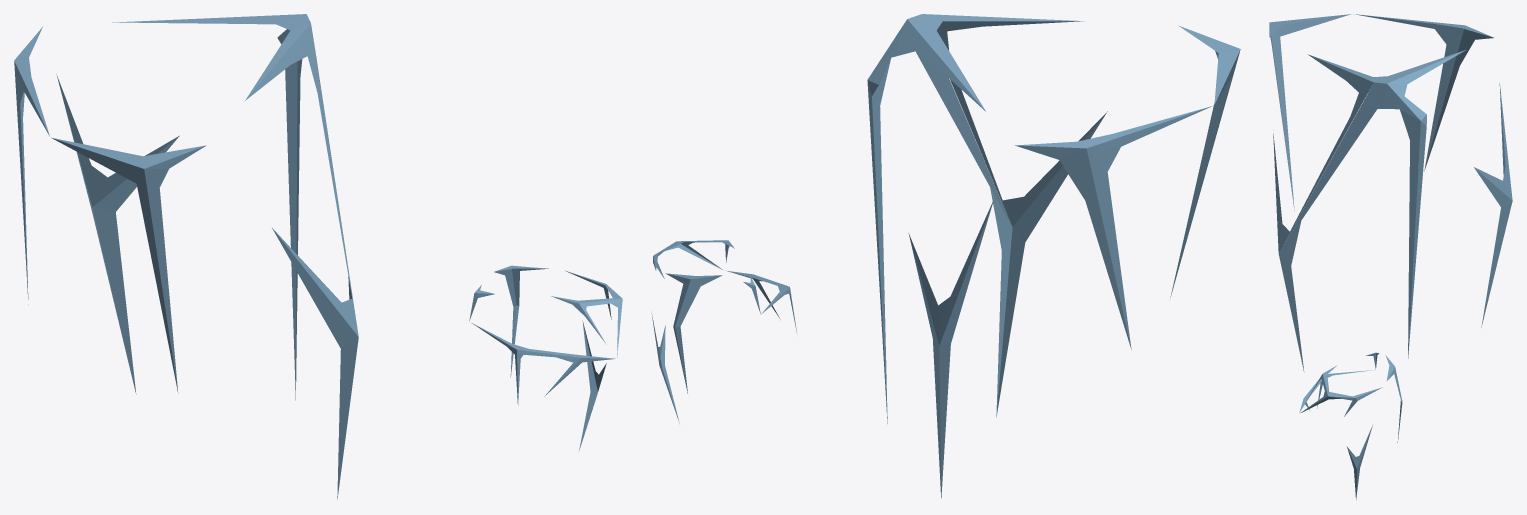
Rendered from Stone_Blue_A_05_Light.FBX.
The picture shows the model from 3 angles, left to right: view 1: azimuth 30°, elevation 25°; view 2: azimuth 150°, elevation 25°; view 3: azimuth 270°, elevation 25°; orthographic projection. The views are drawn at different scales.
Parts seen in each view (by area): view 1: Stone_Blue_A_05_Light; view 2: Stone_Blue_A_05_Light; view 3: Stone_Blue_A_05_Light.
Part boxes in pixels (x1,y1,x2,y2): Stone_Blue_A_05_Light: (14, 14, 622, 499); Stone_Blue_A_05_Light: (651, 14, 1240, 498); Stone_Blue_A_05_Light: (1269, 14, 1512, 499).
Size of the model in its own units: 1.49 by 1.23 by 0.8133.
